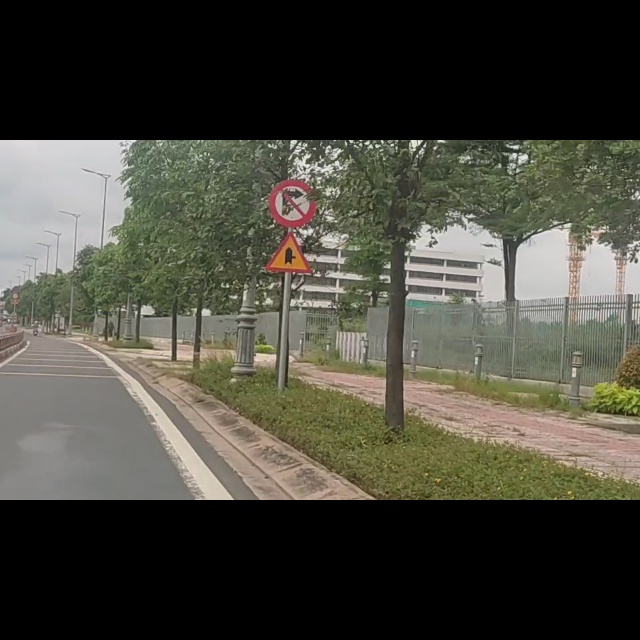bien_nguy_hiem: (271, 68, 316, 158), (267, 161, 313, 238)
